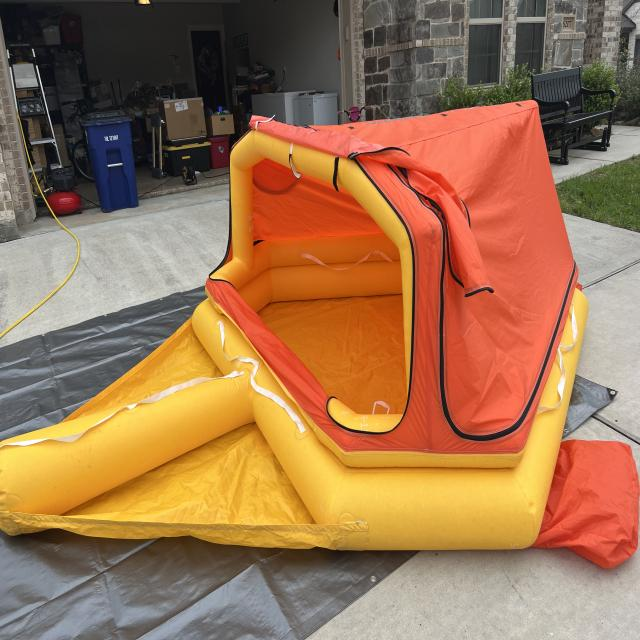Multi-person_life_raft: (0, 99, 640, 572)
